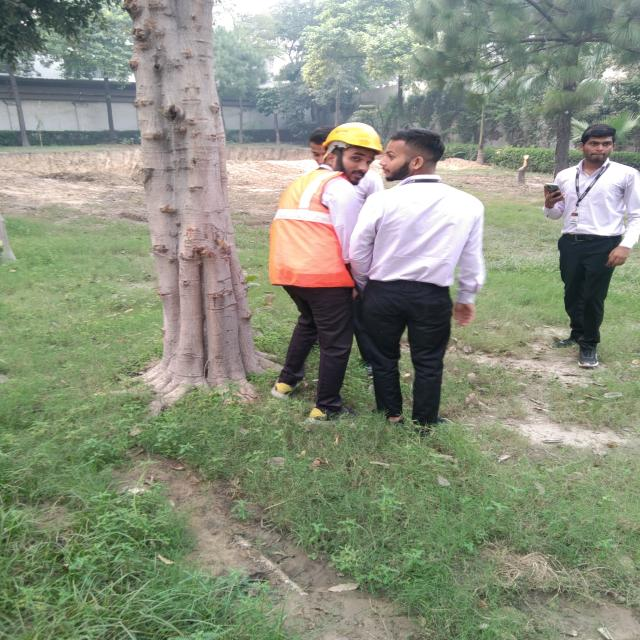safe: (267, 122, 382, 424)
unsafe: (380, 129, 488, 432), (543, 123, 640, 369)
